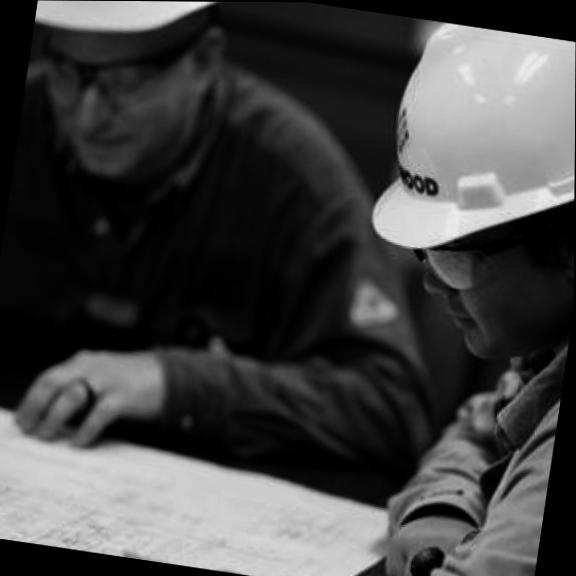no_safety_vest: (0, 89, 388, 453)
